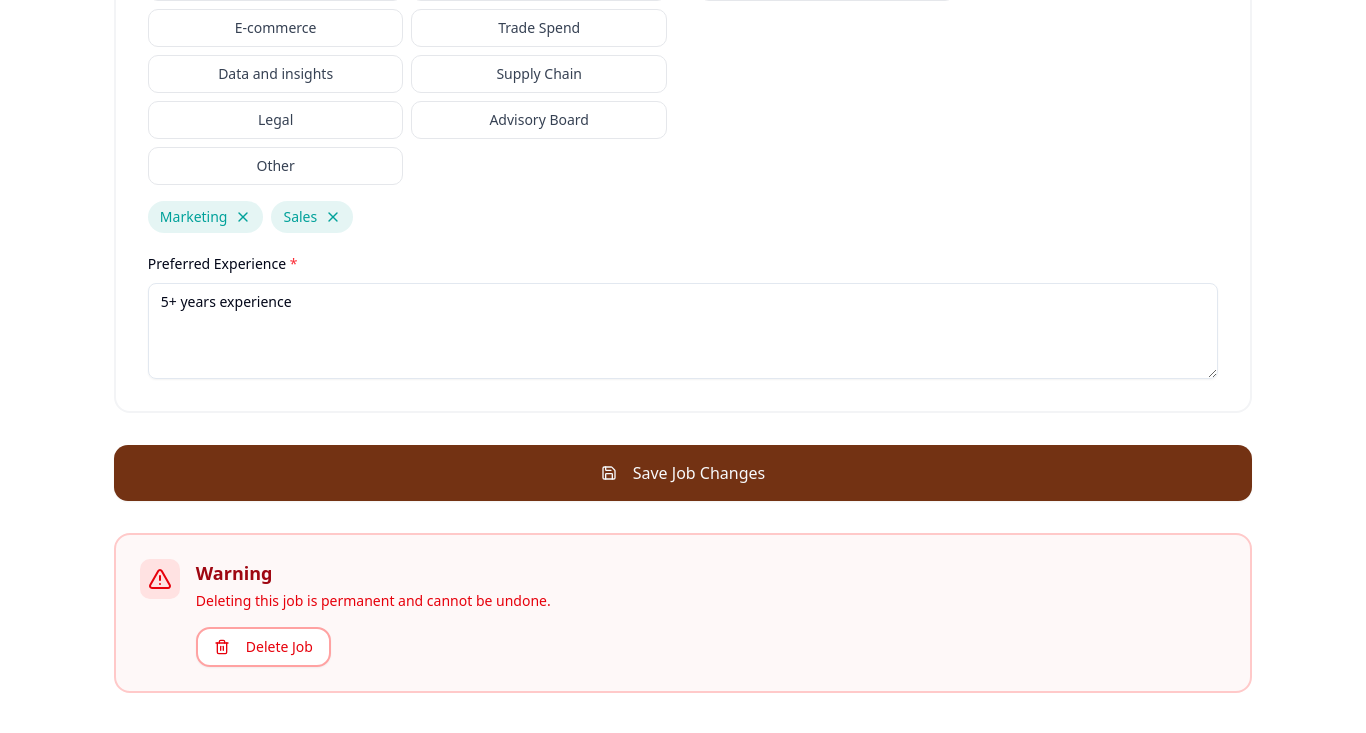
EditJobPage › Delete Job › shows confirmation on delete click
(page scrolled)
Click the button "Delete Job" at (263, 647), box [196, 627, 331, 667]
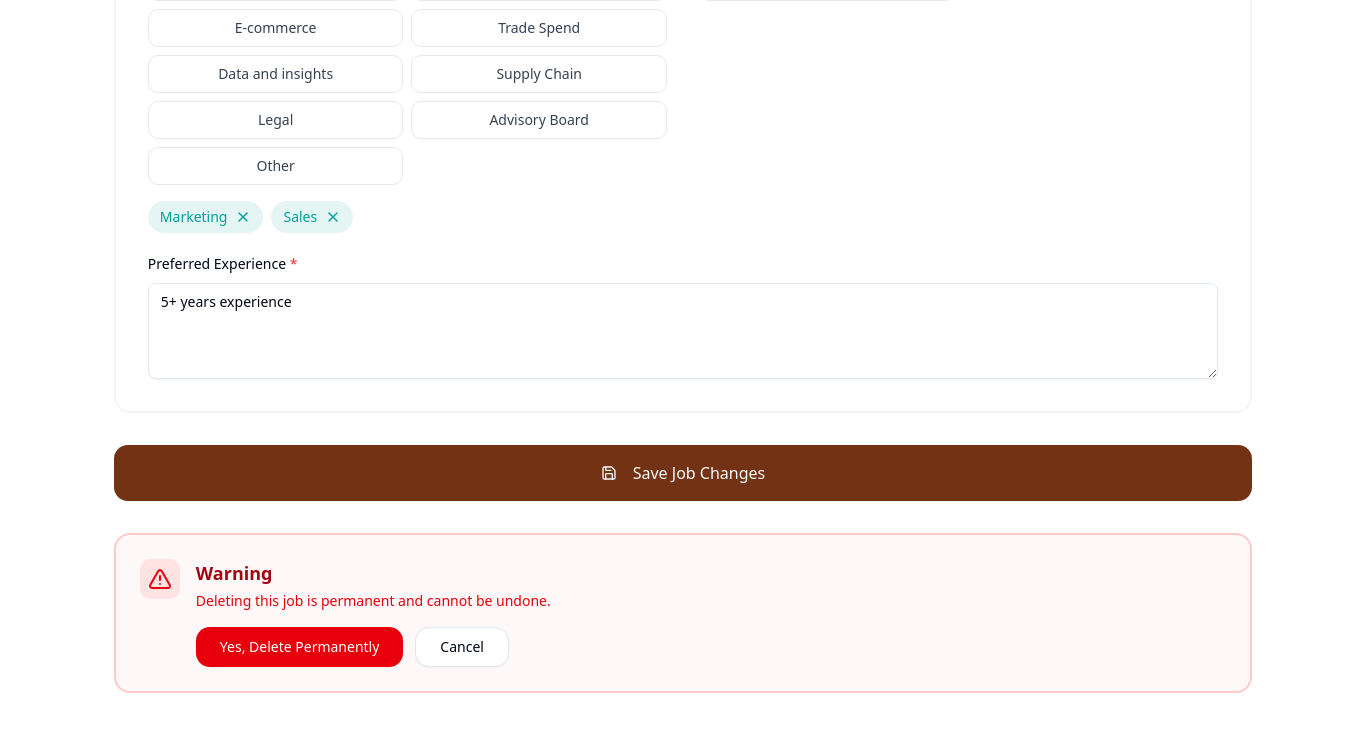
Now the button "Yes, Delete Permanently" is shown, box [196, 627, 403, 667]
Now the button "Cancel" is shown, box [415, 627, 509, 667]
